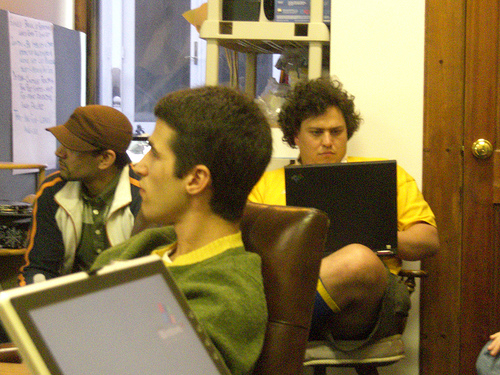without_mask: (123, 116, 234, 239), (286, 92, 358, 171), (44, 123, 124, 192)
